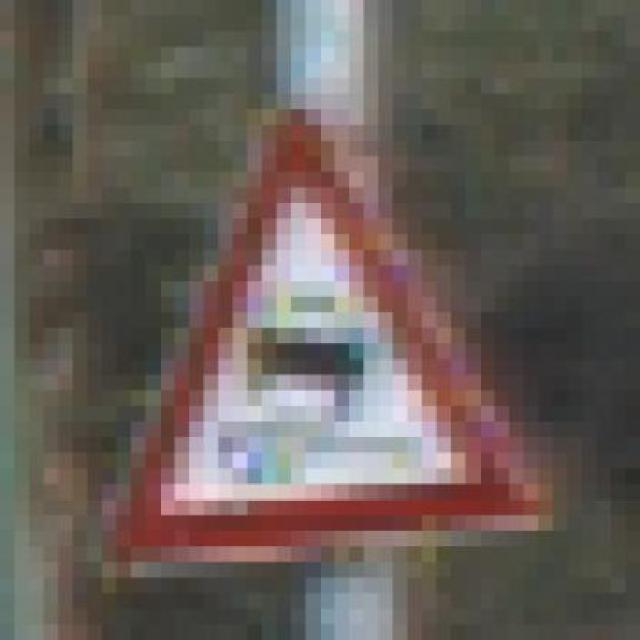Slippery Road Ahead: (84, 101, 550, 553)
